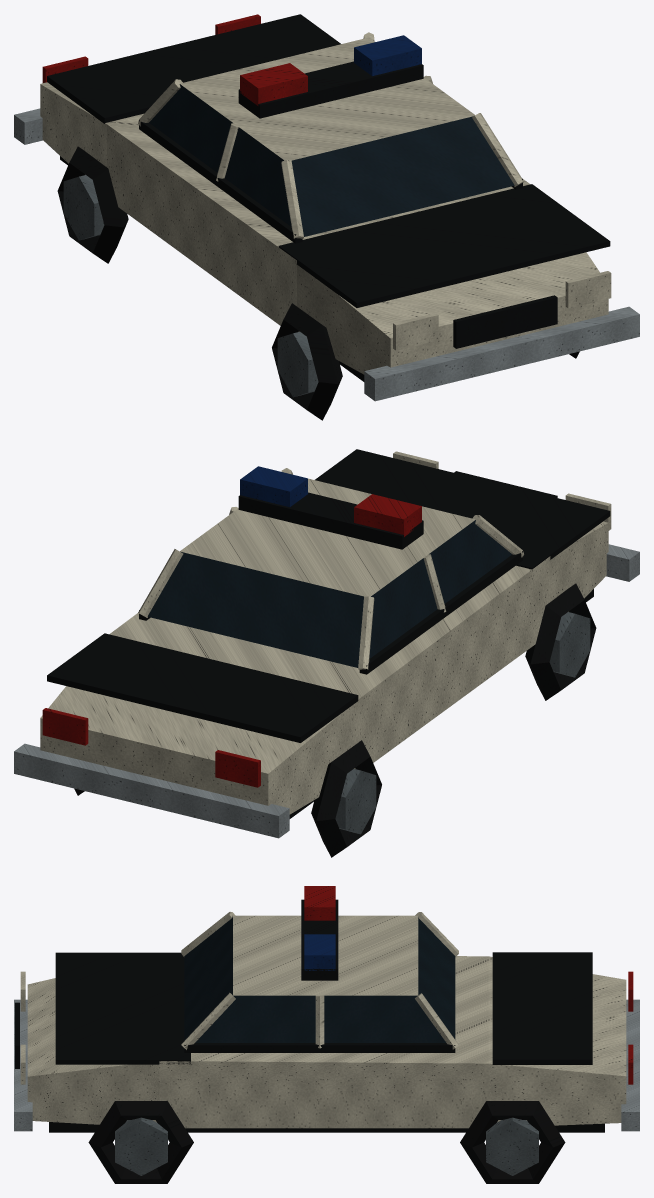
File: PROP-2E5F09116ABF_lod2.glb
3 renders of one model, top to bottom at view 1: azimuth 30°, elevation 25°; view 2: azimuth 150°, elevation 25°; view 3: azimuth 270°, elevation 25°, orthographic. The views are drawn at different scales.
Visible parts, largest first — view 1: shaped_body_panels.004, sloped_cabin_glazing.002, black_hood.002, roof_panel.002, black_trunk.002, bumper.004, tire.004, rim.004, lightbar.002, radiator_grille.004, window_pillars.002, lamp_lenses.008 (+4 smaller); view 2: shaped_body_panels.004, sloped_cabin_glazing.002, black_trunk.002, roof_panel.002, black_hood.002, bumper.004, tire.004, rim.004, lightbar.002, window_pillars.002, lamp_lenses.009, window_belt.002 (+3 smaller); view 3: shaped_body_panels.004, sloped_cabin_glazing.002, black_hood.002, roof_panel.002, black_trunk.002, tire.004, rim.004, bumper.004, window_belt.002, window_pillars.002, chassis.004, lightbar.002 (+4 smaller).
Boxes of the visible parts, x1,y1,x2,y2 form: shaped_body_panels.004: (40,82,608,374); sloped_cabin_glazing.002: (149,84,514,236); black_hood.002: (278,184,610,307); roof_panel.002: (180,37,474,160); black_trunk.002: (47,14,340,123); bumper.004: (14,108,639,401); tire.004: (57,146,579,420); rim.004: (63,175,318,397); lightbar.002: (238,61,423,118); radiator_grille.004: (453,295,557,348); window_pillars.002: (138,32,523,238); lamp_lenses.008: (393,271,611,350); shaped_body_panels.004: (40,521,608,814); sloped_cabin_glazing.002: (147,520,511,667); black_trunk.002: (47,633,358,742); roof_panel.002: (180,478,475,596); black_hood.002: (315,449,610,569); bumper.004: (14,544,639,838); tire.004: (74,583,596,857); rim.004: (335,612,590,834); lightbar.002: (238,492,423,549); window_pillars.002: (138,468,523,669); lamp_lenses.009: (42,708,260,787); window_belt.002: (139,551,522,674); shaped_body_panels.004: (27,956,626,1128); sloped_cabin_glazing.002: (184,916,455,1042); black_hood.002: (55,952,190,1064); roof_panel.002: (233,915,418,995); black_trunk.002: (492,952,592,1064); tire.004: (88,1101,565,1183); rim.004: (115,1117,538,1175); bumper.004: (14,999,639,1131); window_belt.002: (184,1043,455,1052); window_pillars.002: (181,911,458,1049); chassis.004: (49,1122,604,1132); lightbar.002: (301,899,338,980).
Bounding box in the file's own units: 1.98 × 1.62 × 4.39.
Materials: 8 (8 with a texture image).
